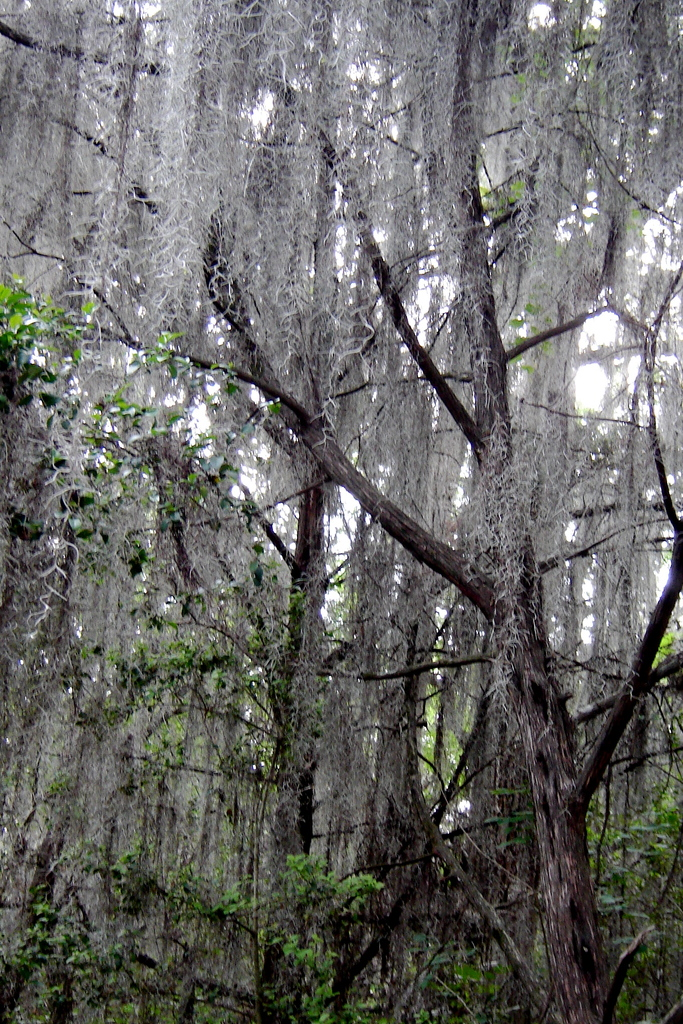Tree: (2, 0, 682, 1020)
